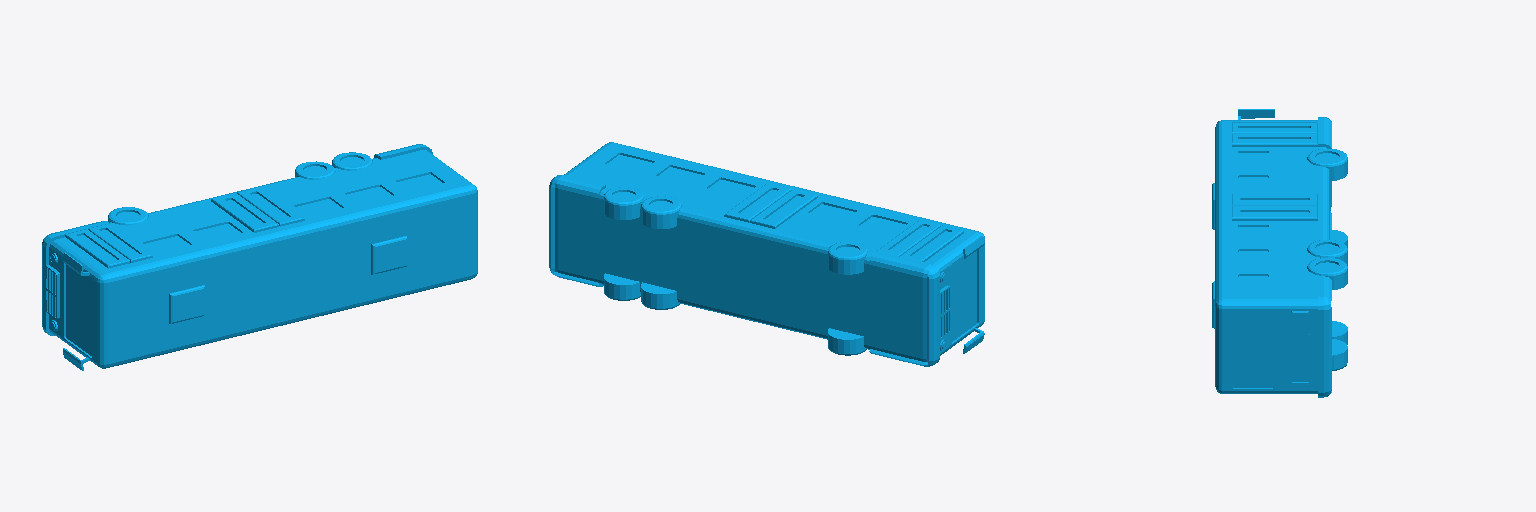
File: bus.obj
3 renders of one model, left to right at view 1: azimuth 30°, elevation 25°; view 2: azimuth 150°, elevation 25°; view 3: azimuth 270°, elevation 25°, orthographic.
Visible parts, largest first — view 1: bus; view 2: bus; view 3: bus.
Boxes of the visible parts, x1=… form: bus: x1=42, y1=144, x2=477, y2=370; bus: x1=549, y1=142, x2=984, y2=366; bus: x1=1212, y1=109, x2=1347, y2=397.
Size of the model in its own units: 98.46 by 25.21 by 29.65.